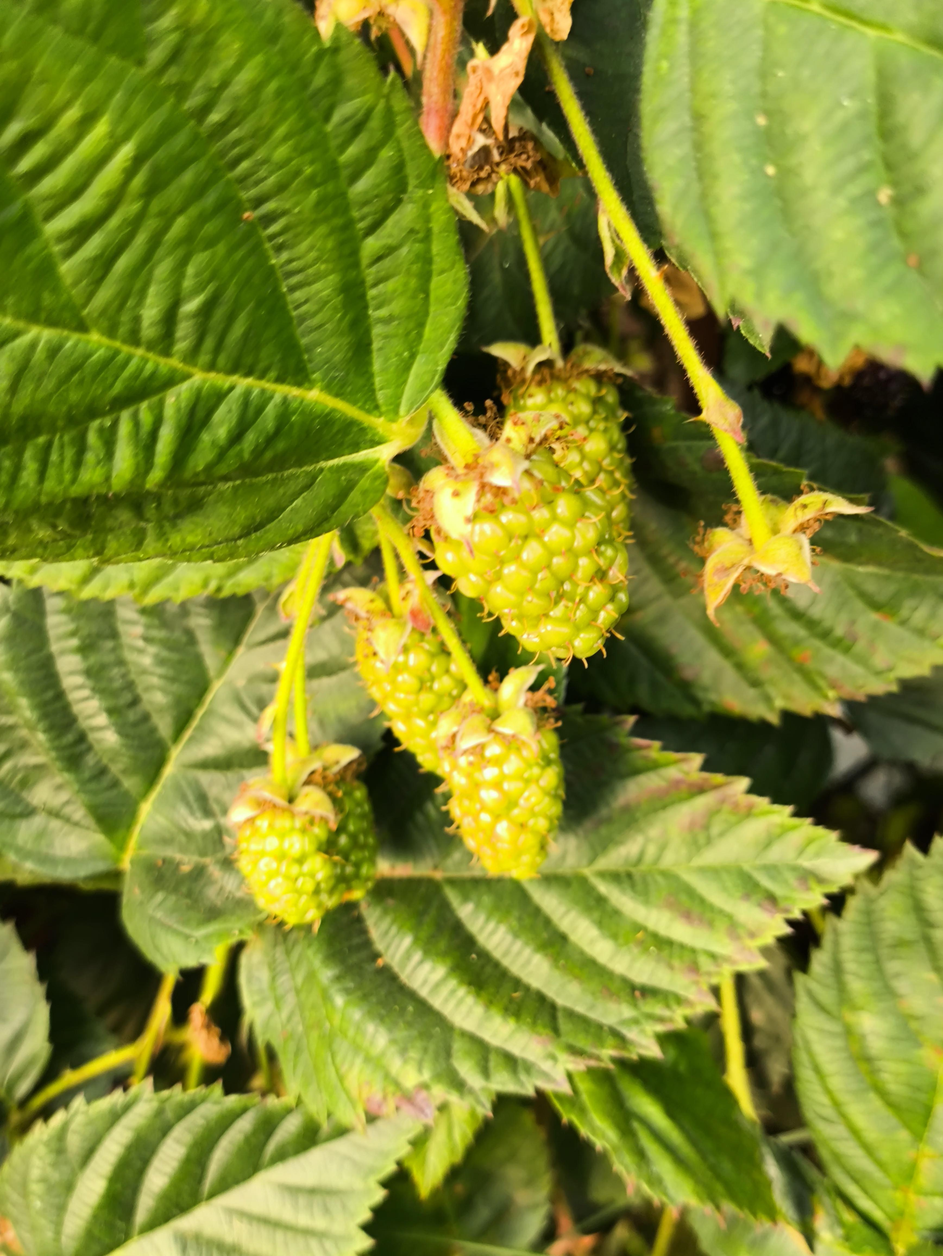verde: (433, 473, 627, 659), (435, 665, 564, 878), (332, 582, 463, 774), (237, 778, 348, 924)
